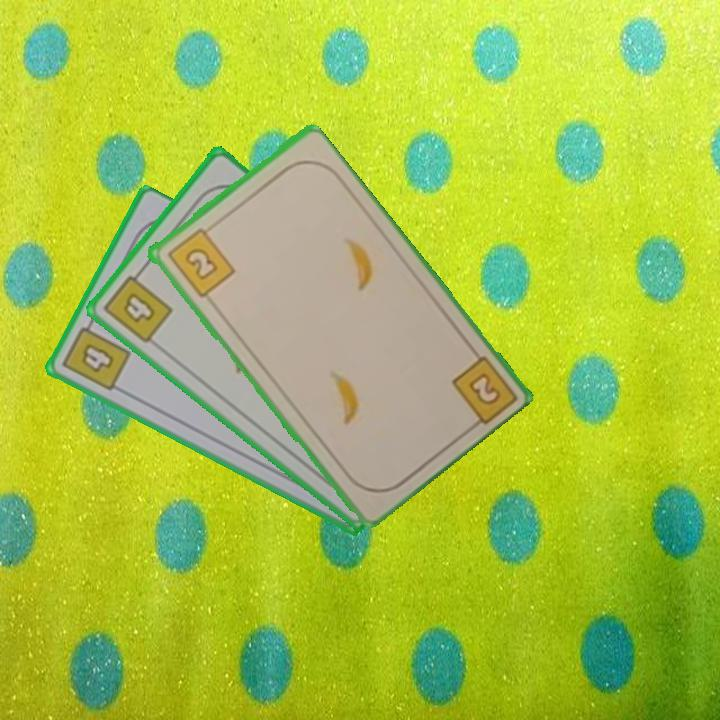2b: (163, 221, 238, 300), (464, 369, 503, 409)
4b: (99, 264, 176, 347), (58, 315, 134, 394)
